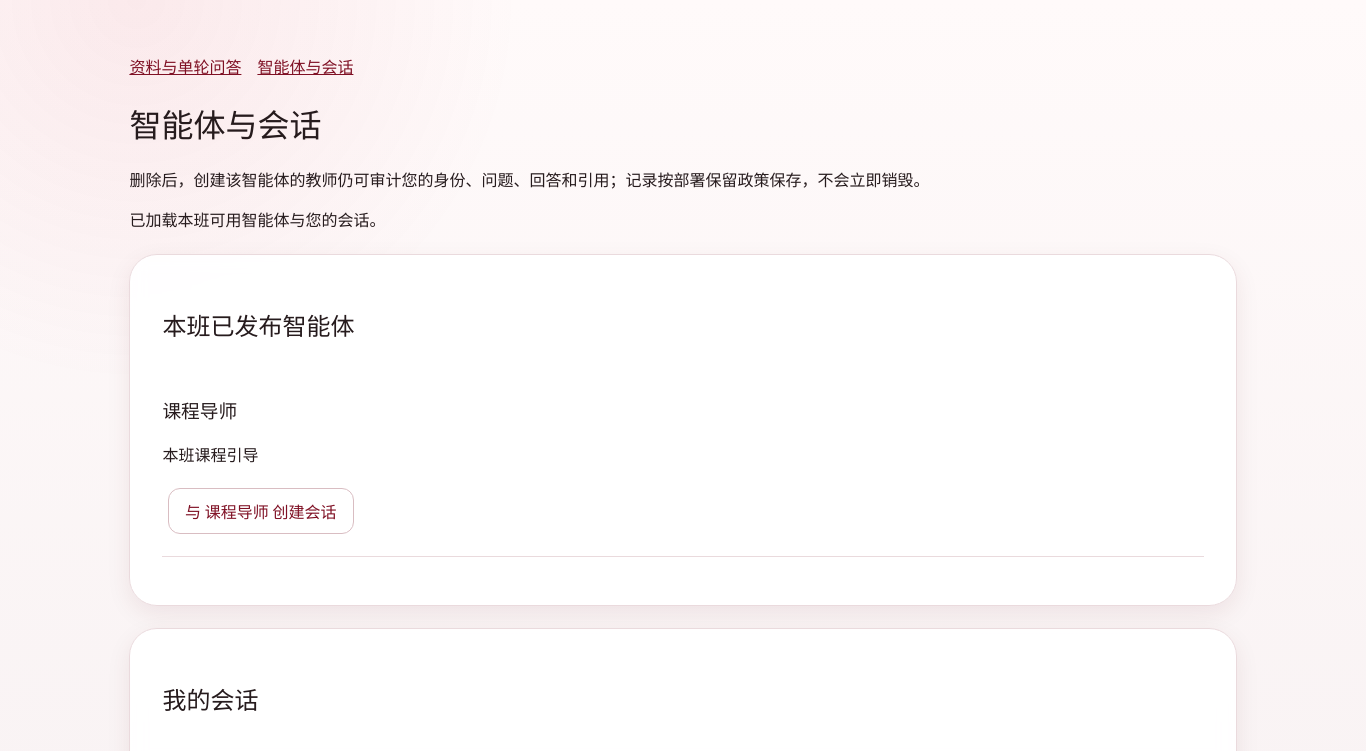
Test case: student catalog and deletion › handles unavailable catalogs and publication conflicts without exposing prompts
Click the button "与 课程导师 创建会话". click: (261, 511)
box: left=168, top=488, right=354, bottom=534
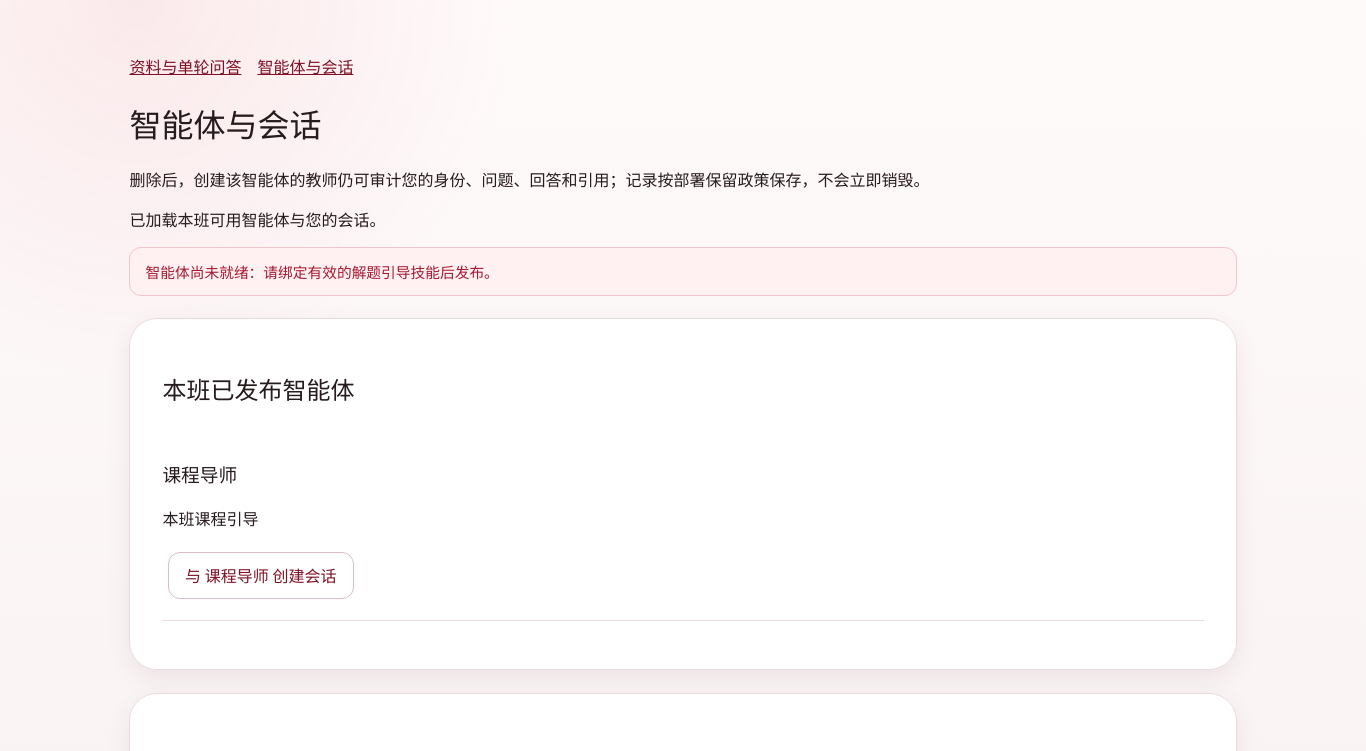
Check: the message "智能体尚未就绪：请绑定有效的解题引导技能后发布。" is shown, box left=129, top=247, right=1237, bottom=296
